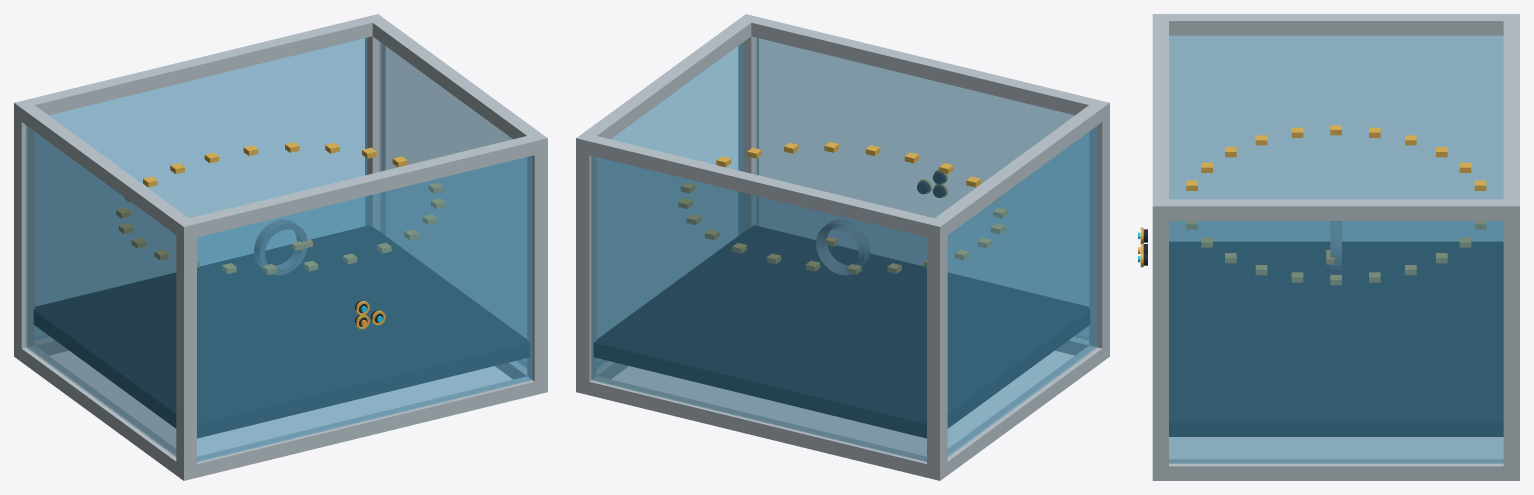
File: 07_L82_SpacecraftAvionicsChassis.fbx
3 renders of one model, left to right at view 1: azimuth 30°, elevation 25°; view 2: azimuth 150°, elevation 25°; view 3: azimuth 270°, elevation 25°, orthographic. The views are drawn at different scales.
Parts seen in each view (by area): view 1: SpacecraftAvionicsChassis, SpacecraftAvionicsChassis_Part_0041; view 2: SpacecraftAvionicsChassis, SpacecraftAvionicsChassis_Part_0041; view 3: SpacecraftAvionicsChassis, SpacecraftAvionicsChassis_Part_0041.
Part boxes in pixels (<box>): SpacecraftAvionicsChassis: <box>14,14,547,480</box>; SpacecraftAvionicsChassis_Part_0041: <box>254,220,307,274</box>; SpacecraftAvionicsChassis: <box>576,14,1109,480</box>; SpacecraftAvionicsChassis_Part_0041: <box>816,220,869,274</box>; SpacecraftAvionicsChassis: <box>1138,14,1519,480</box>; SpacecraftAvionicsChassis_Part_0041: <box>1330,221,1341,274</box>.
Size of the model in its own units: 390 by 260 by 328.
